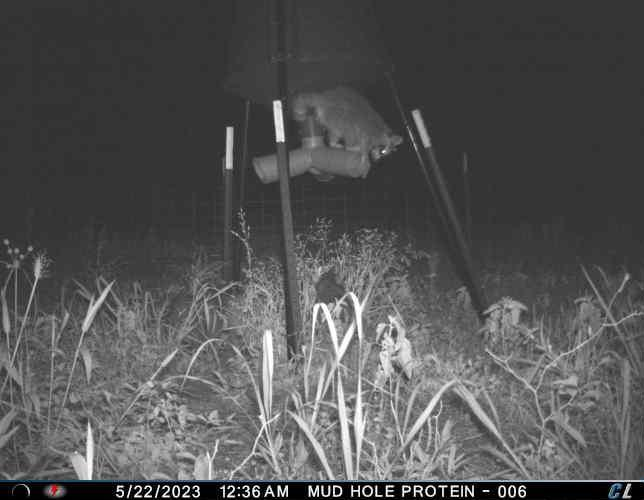Raccoon: (296, 83, 403, 161)
